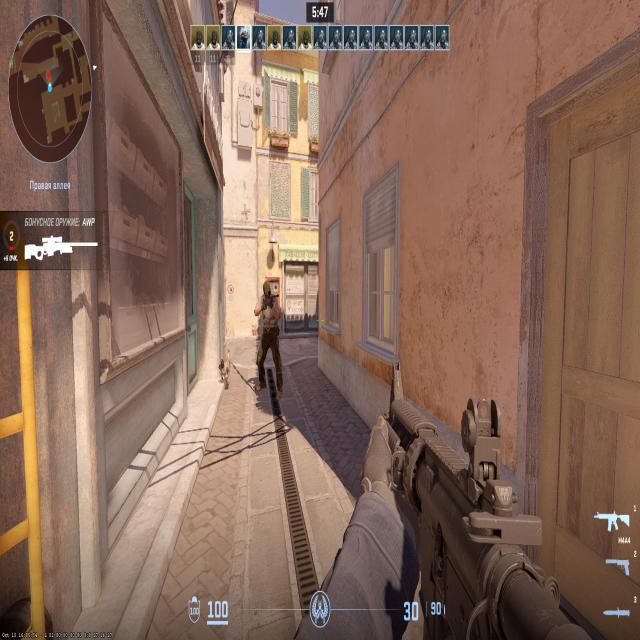T: (258, 284, 280, 386)
T_heat: (265, 288, 271, 299)
